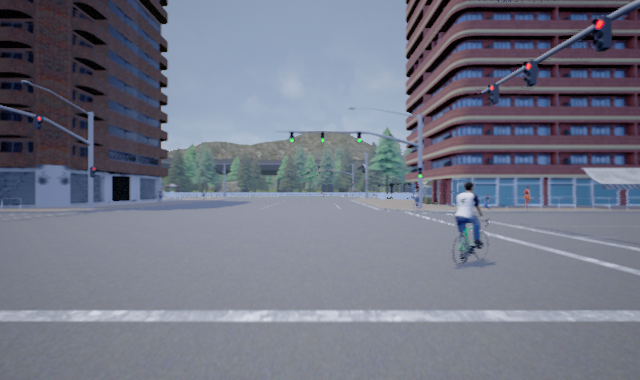bike: (451, 181, 489, 267)
pedestrian: (519, 184, 534, 210), (479, 192, 494, 210), (411, 185, 422, 209), (155, 186, 165, 203)
